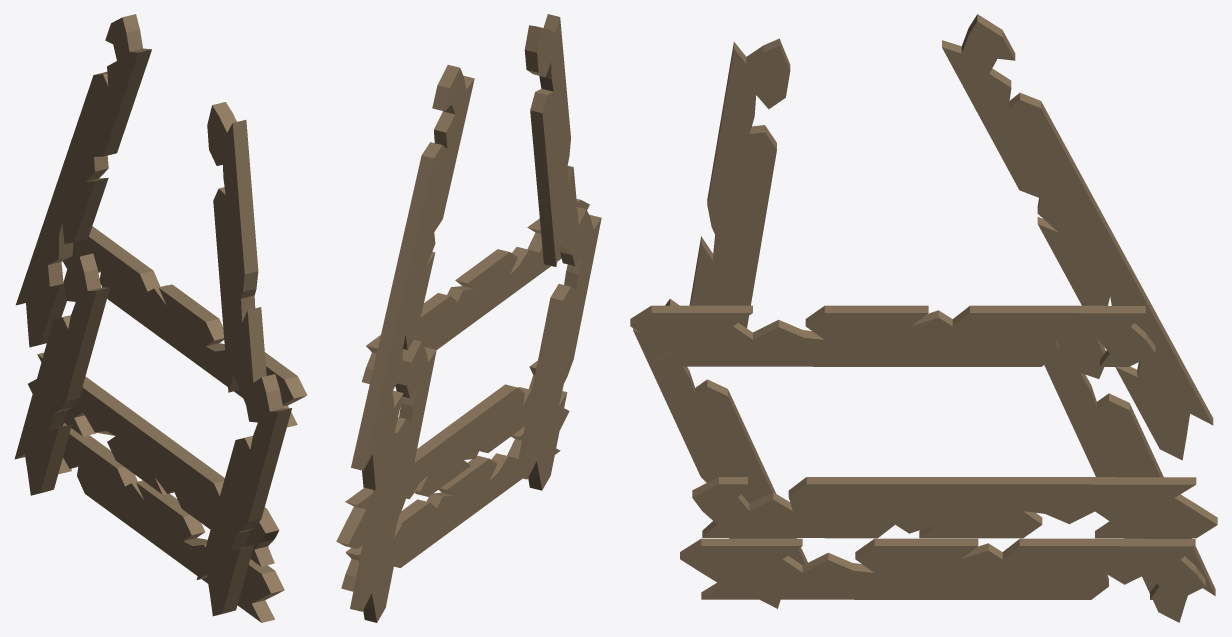
File: WoodBarricade2.fbx
3 renders of one model, left to right at view 1: azimuth 30°, elevation 25°; view 2: azimuth 150°, elevation 25°; view 3: azimuth 270°, elevation 25°, orthographic. The views are drawn at different scales.
Visible parts, largest first — view 1: WoodBarricade2; view 2: WoodBarricade2; view 3: WoodBarricade2.
Part boxes in pixels (left/top/right/bottom): WoodBarricade2: left=14, top=14, right=307, bottom=622; WoodBarricade2: left=336, top=14, right=601, bottom=622; WoodBarricade2: left=630, top=14, right=1217, bottom=622.
Bounding box in the file's own units: 0.2304 × 4.32 × 3.83.
